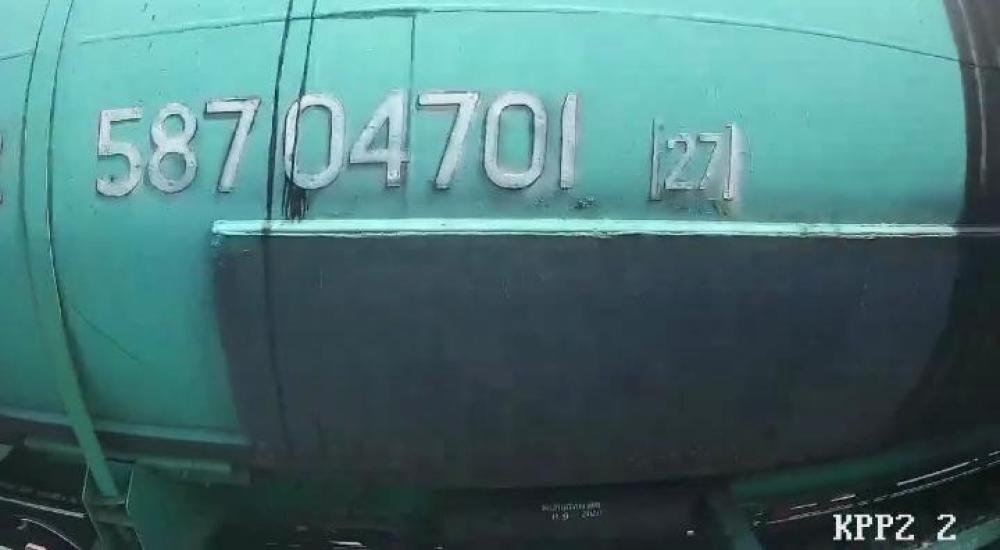Wagon-number: (90, 86, 585, 196)
